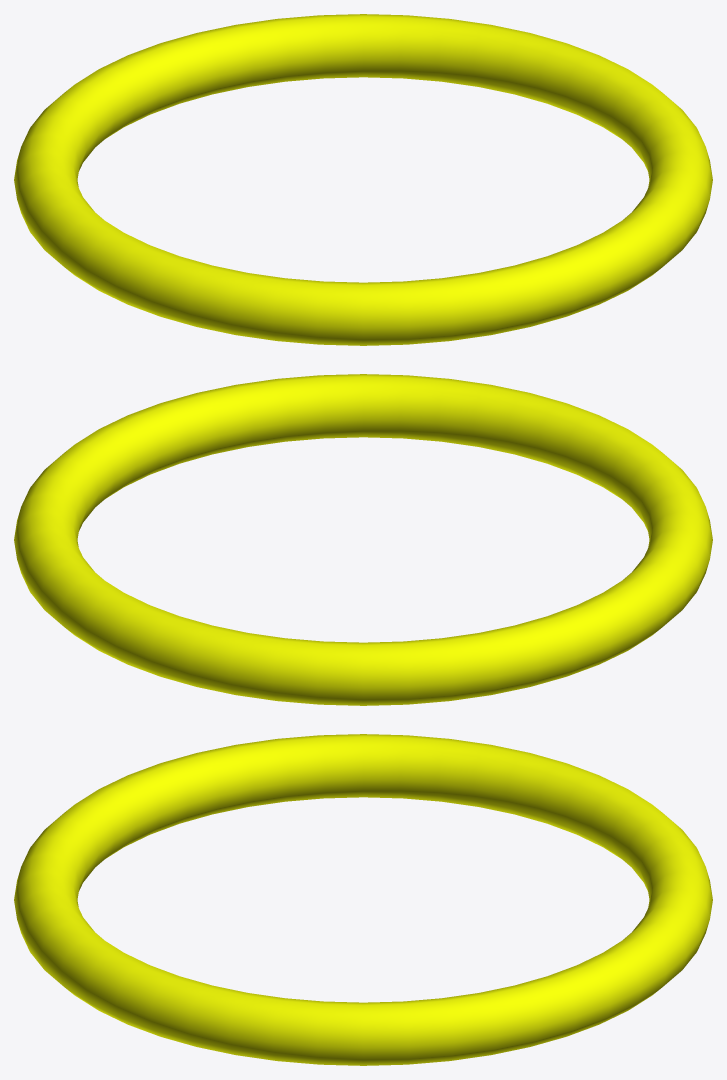
Rendered from ring.fbx.
3 renders of one model, top to bottom at view 1: azimuth 30°, elevation 25°; view 2: azimuth 150°, elevation 25°; view 3: azimuth 270°, elevation 25°, orthographic.
Visible parts, largest first — view 1: Torus.001; view 2: Torus.001; view 3: Torus.001.
Part boxes in pixels (x1,y1,x2,y2): Torus.001: [14, 14, 712, 345]; Torus.001: [14, 374, 712, 705]; Torus.001: [14, 734, 712, 1065].
Size of the model in its own units: 220 by 20 by 220.
